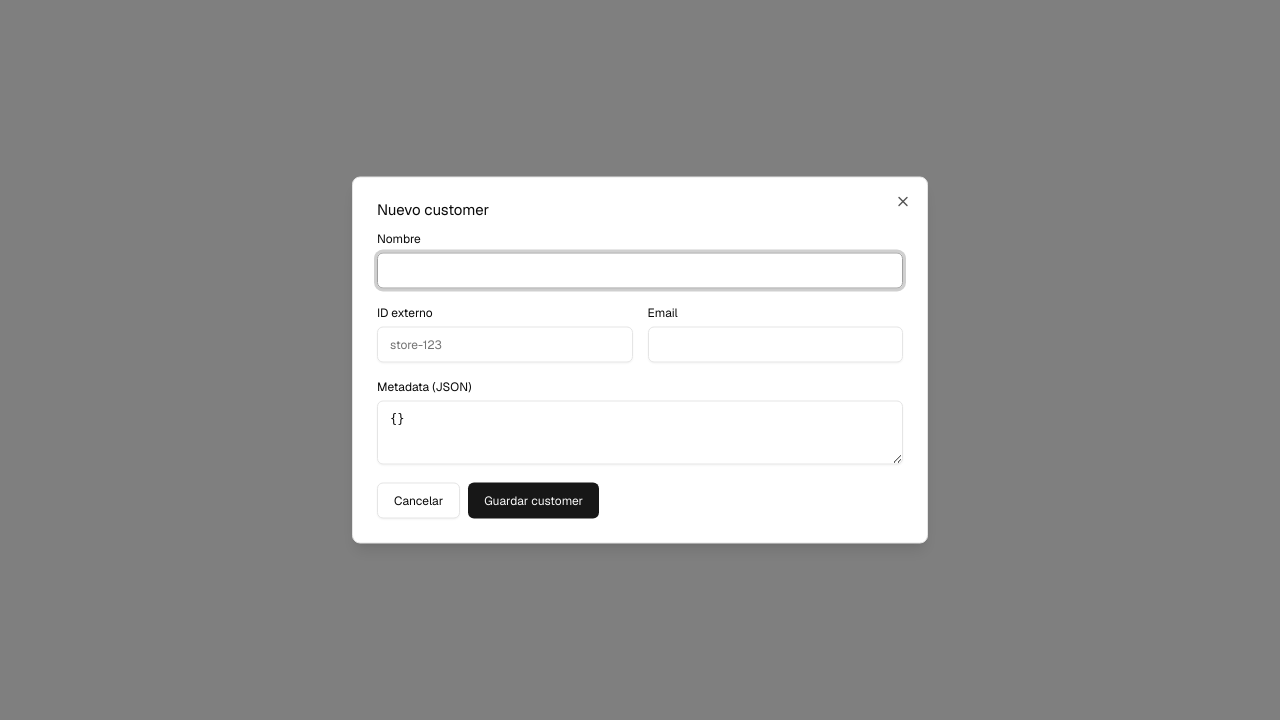
Scenario: rejects invalid customer metadata before making an API request
This screenshot has width=1280, height=720.
Type "Merchant" into the field labelled "Nombre" at (640, 270), box [377, 252, 903, 288]
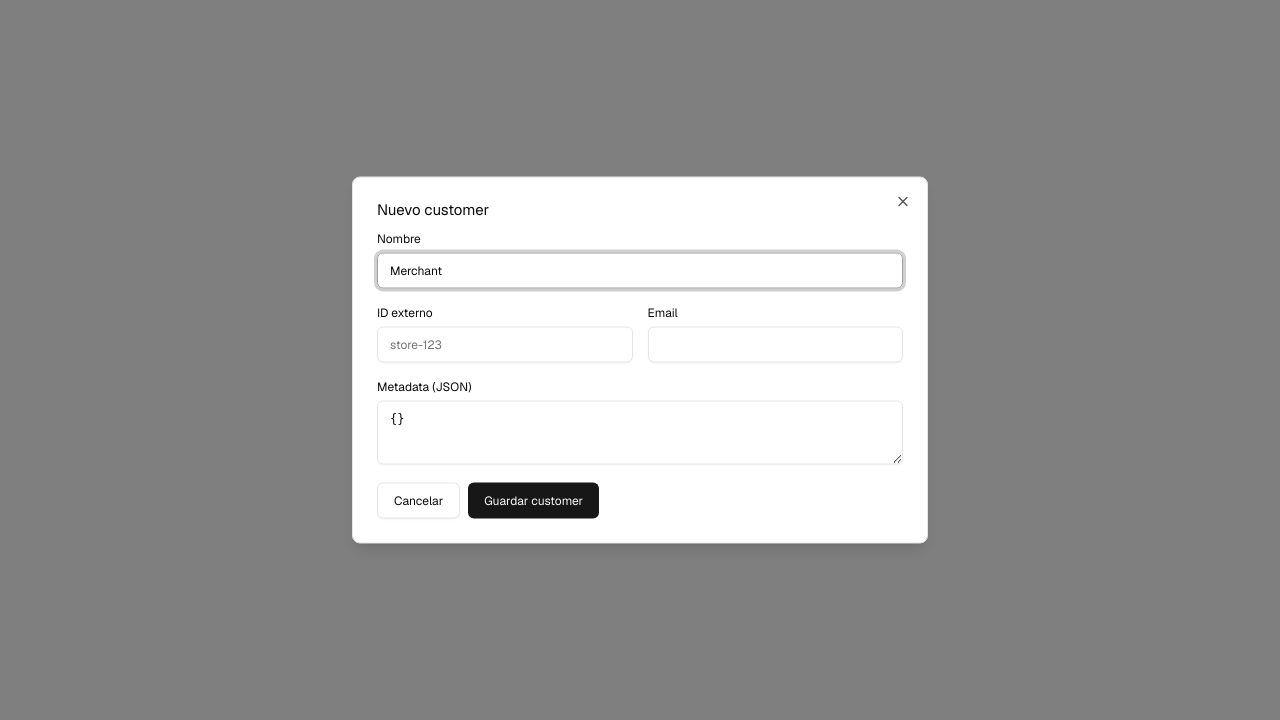
Clear the text box labelled "Metadata (JSON)" at (640, 432), box [377, 400, 903, 464]
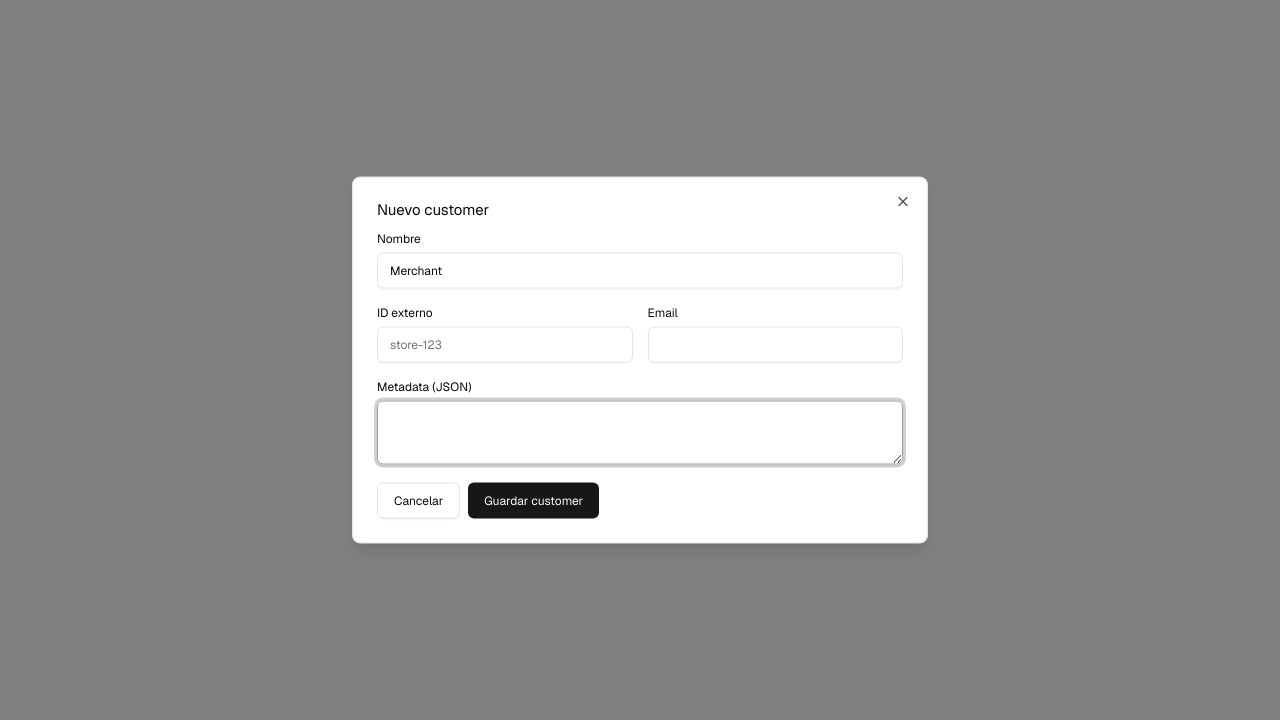
Type keys "[]"
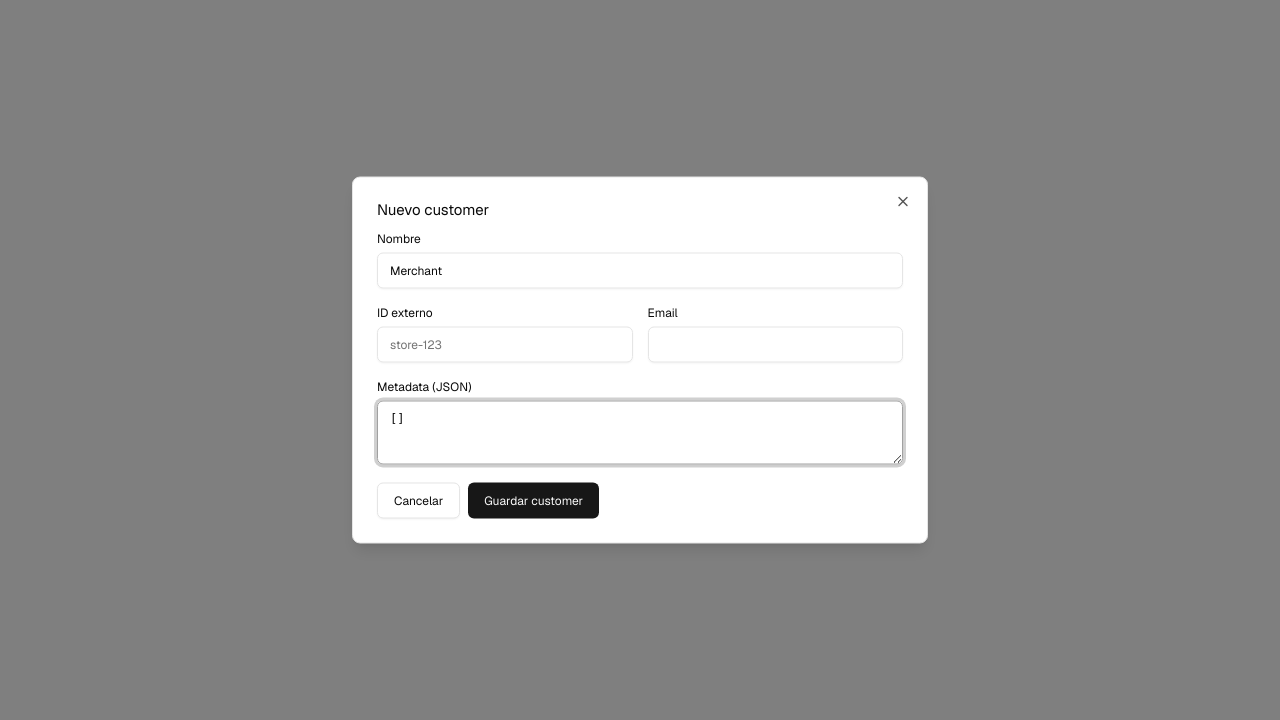
Click the button "Guardar customer" at (534, 500), box [468, 482, 599, 518]
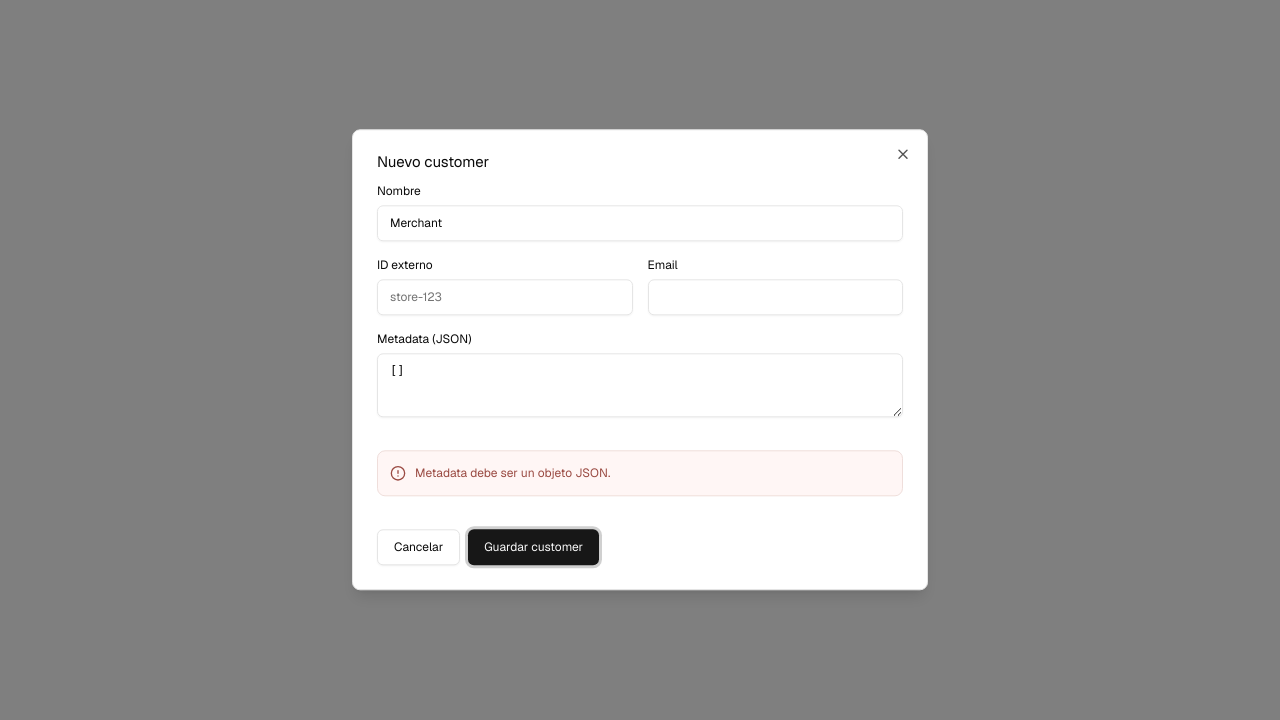
Now the message shows "Metadata debe ser un objeto JSON", box [415, 465, 610, 481]
